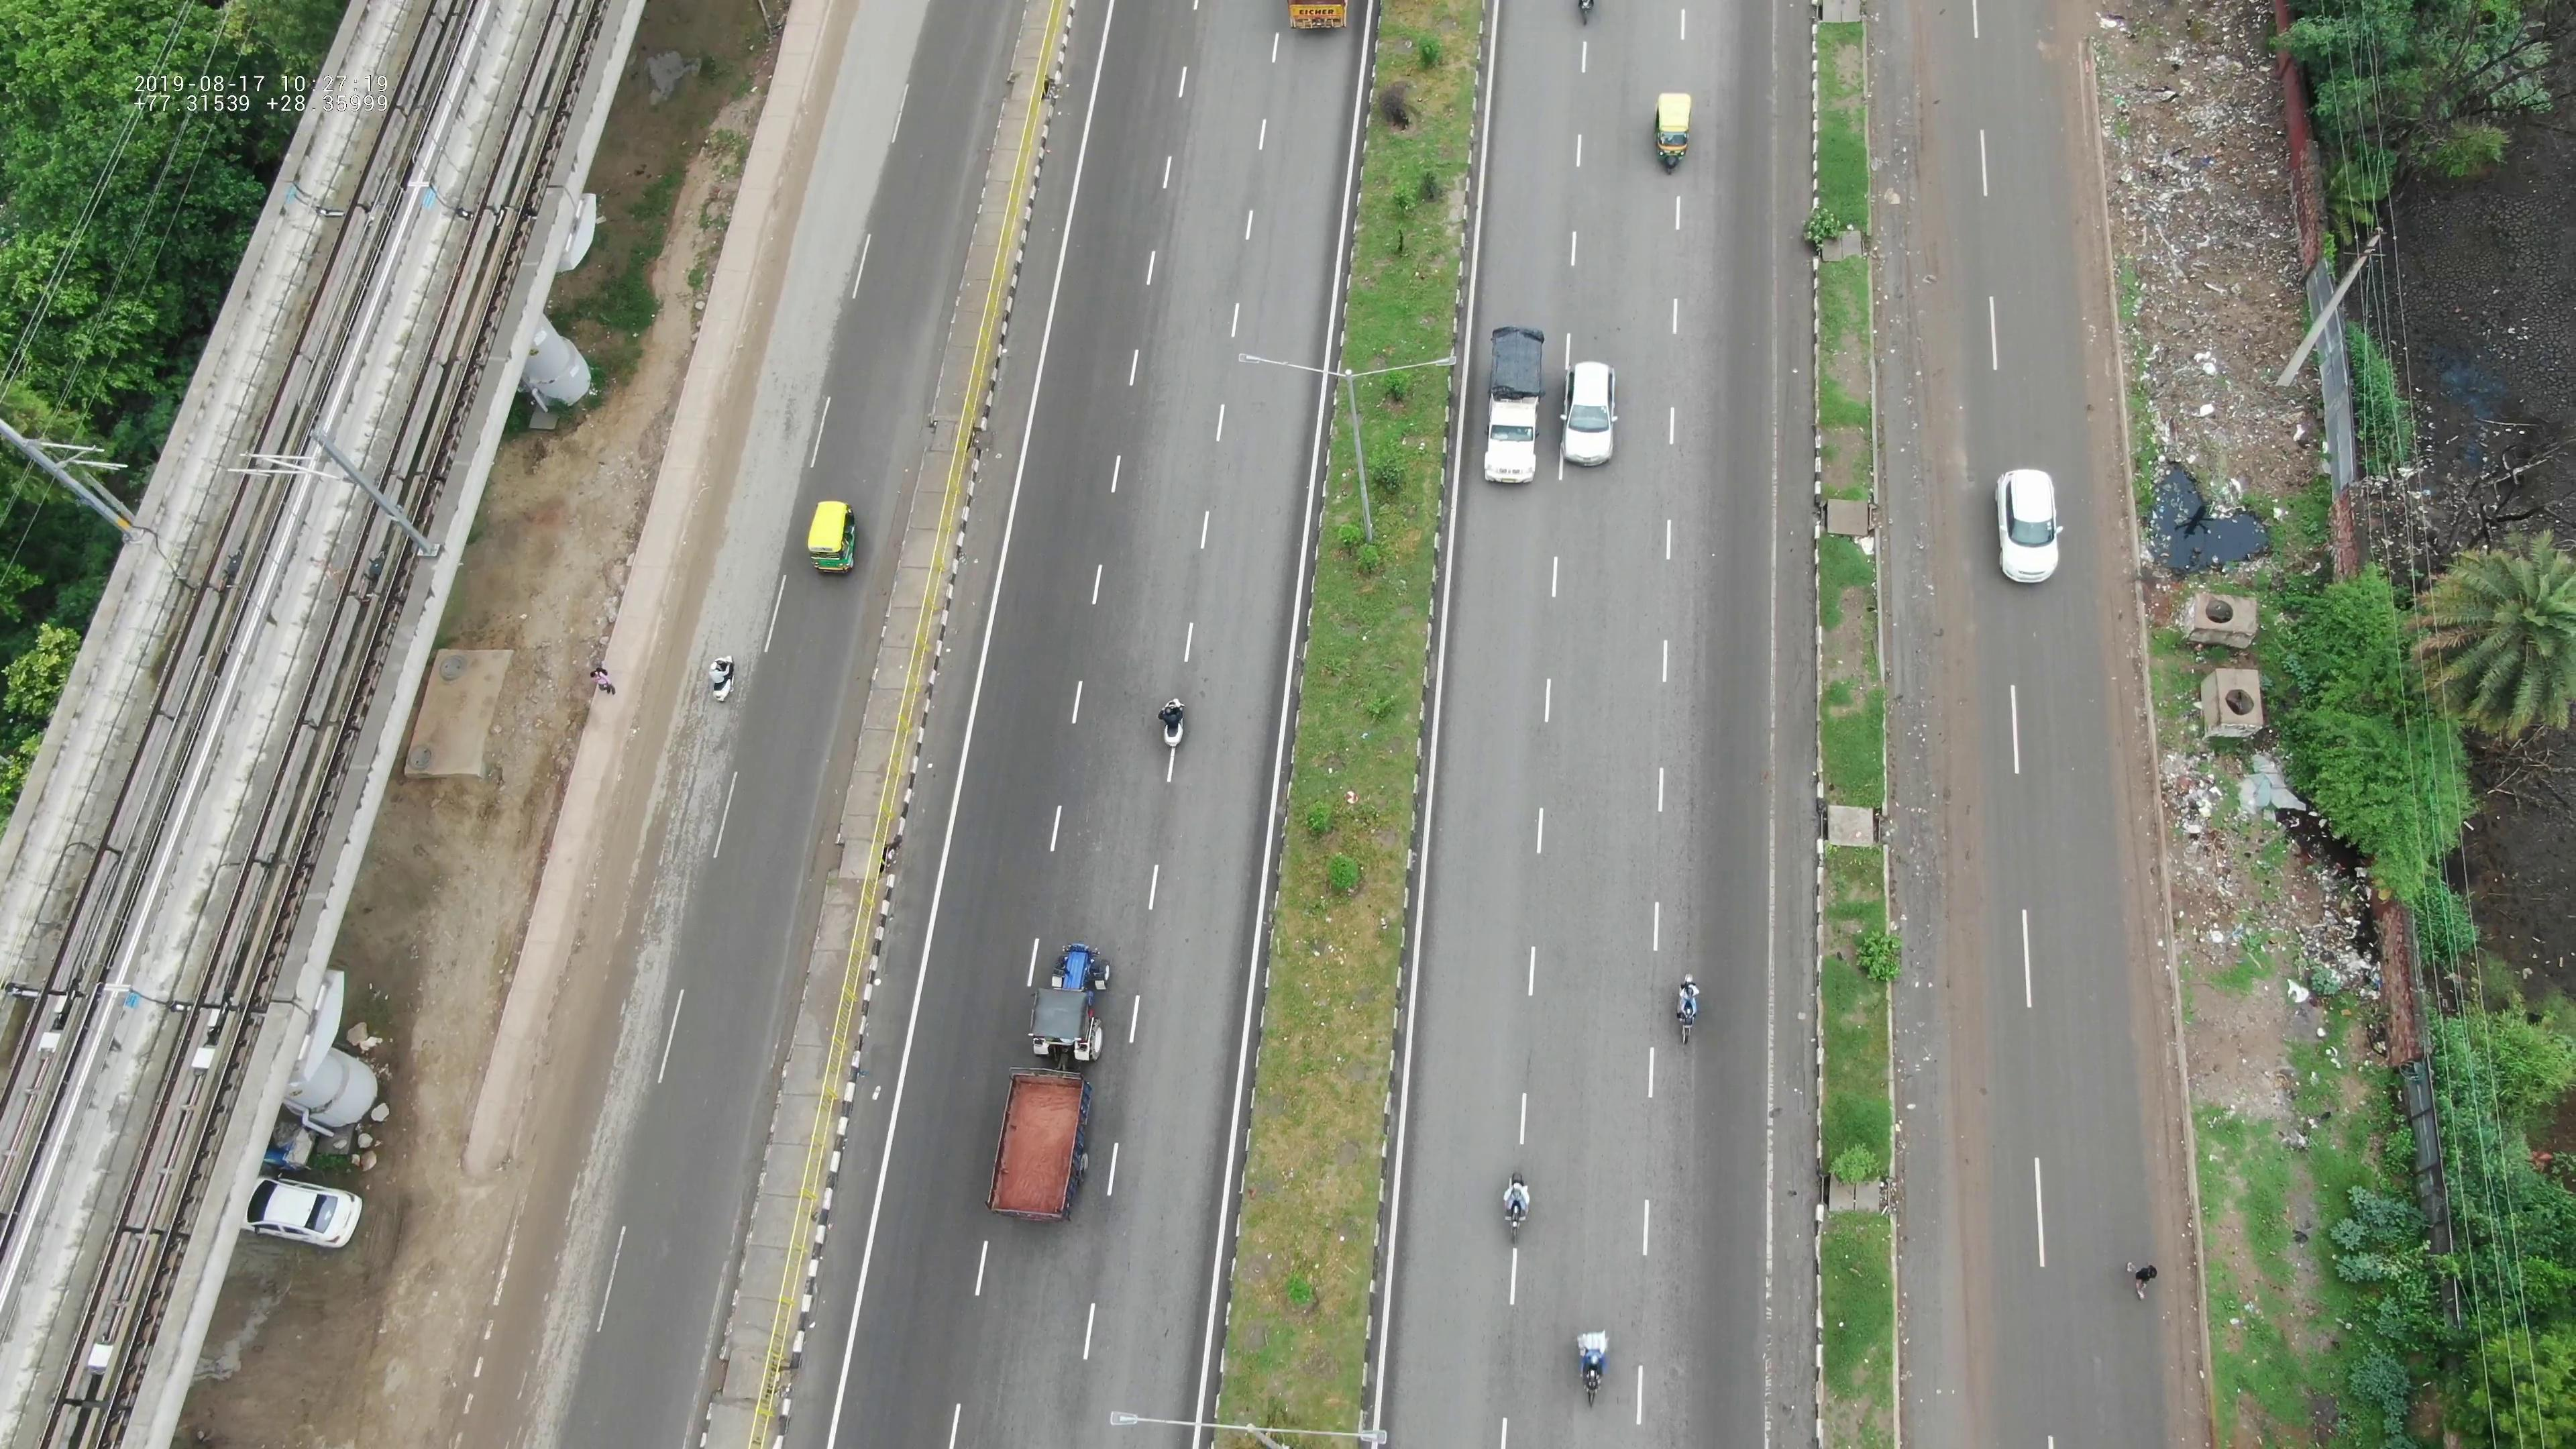Muddy_road: (1886, 285, 1980, 683), (1913, 717, 1987, 1171)
Road_side_garbage: (2120, 64, 2321, 499), (2167, 757, 2383, 984)
